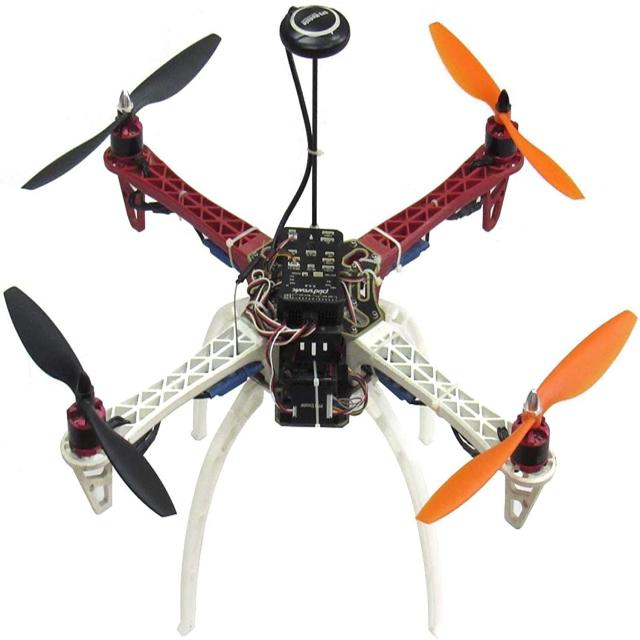drone: (0, 5, 617, 578)
